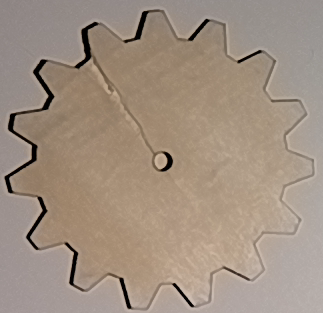Crack: (80, 53, 154, 158)
